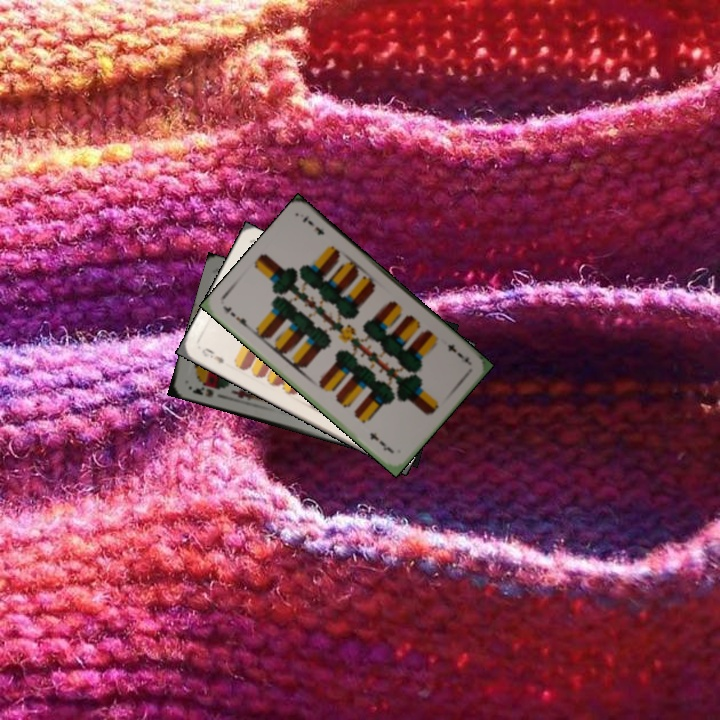E7: (219, 302, 254, 332), (443, 340, 473, 367)
E9: (197, 343, 227, 366)
SK: (188, 383, 216, 400)
